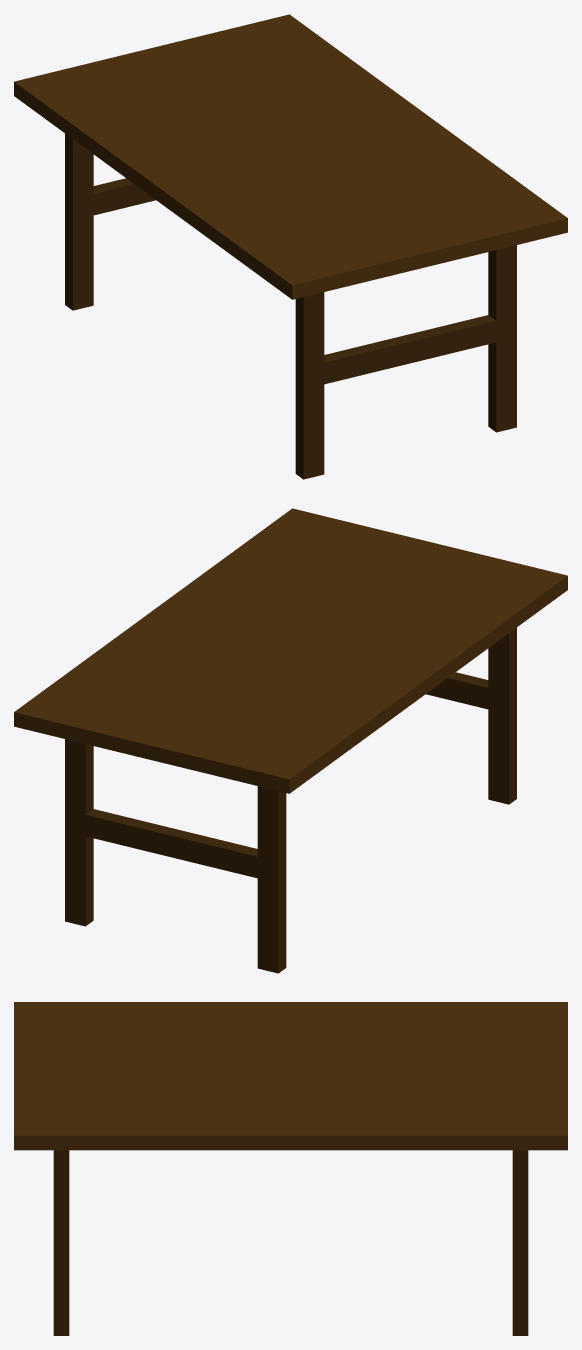
The model's file is TableLarge.fbx.
3 renders of one model, top to bottom at view 1: azimuth 30°, elevation 25°; view 2: azimuth 150°, elevation 25°; view 3: azimuth 270°, elevation 25°, orthographic.
Visible parts, largest first — view 1: Table:Top1, Table:Leg14, Table:Support3, Table:Leg12, Table:Leg13, Table:Support4; view 2: Table:Top1, Table:Leg13, Table:Support4, Table:Leg11, Table:Leg14, Table:Support3; view 3: Table:Top1, Table:Leg11, Table:Leg12.
Boxes of the visible parts, x1,y1,x2,y2 form: Table:Top1: [14, 14, 567, 299]; Table:Leg14: [295, 292, 324, 479]; Table:Support3: [324, 315, 496, 384]; Table:Leg12: [488, 245, 516, 432]; Table:Leg13: [65, 133, 93, 310]; Table:Support4: [93, 178, 155, 215]; Table:Top1: [14, 508, 567, 793]; Table:Leg13: [257, 786, 286, 973]; Table:Support4: [85, 809, 257, 878]; Table:Leg11: [65, 739, 93, 926]; Table:Leg14: [488, 627, 516, 804]; Table:Support3: [426, 672, 488, 709]; Table:Top1: [14, 1002, 567, 1150]; Table:Leg11: [512, 1150, 528, 1335]; Table:Leg12: [53, 1150, 69, 1335].
Bounding box in the file's own units: 1 × 0.75 × 1.75.
